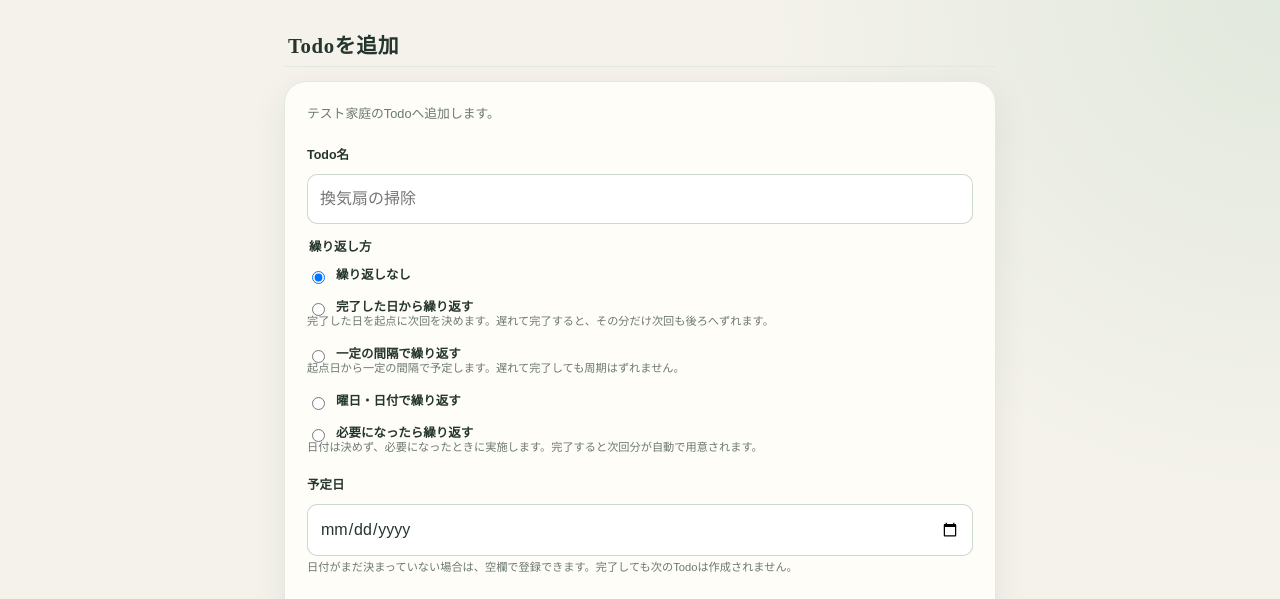
Test case: Todo登録ページの一定の間隔 › 必要になったら繰り返すを選ぶと、日付・間隔の入力を出さずに補足だけを示す
The width and height of the screenshot is (1280, 599).
Click the radio button labelled "必要になったら繰り返す".
click(318, 435)  # box [312, 429, 325, 442]
(page scrolled)
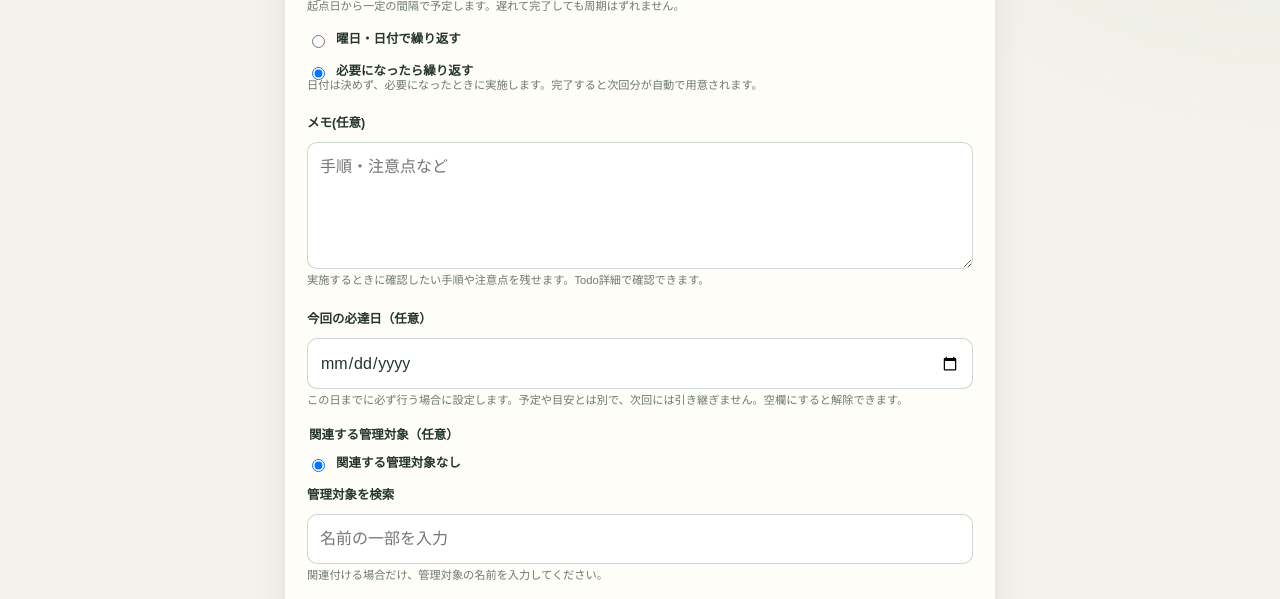
Expected: the text "日付は決めず、必要になったときに実施します。完了すると次回分が自動で用意されます。" is shown, [307, 79, 763, 91]
Expected: the label labelled "予定日" is gone
